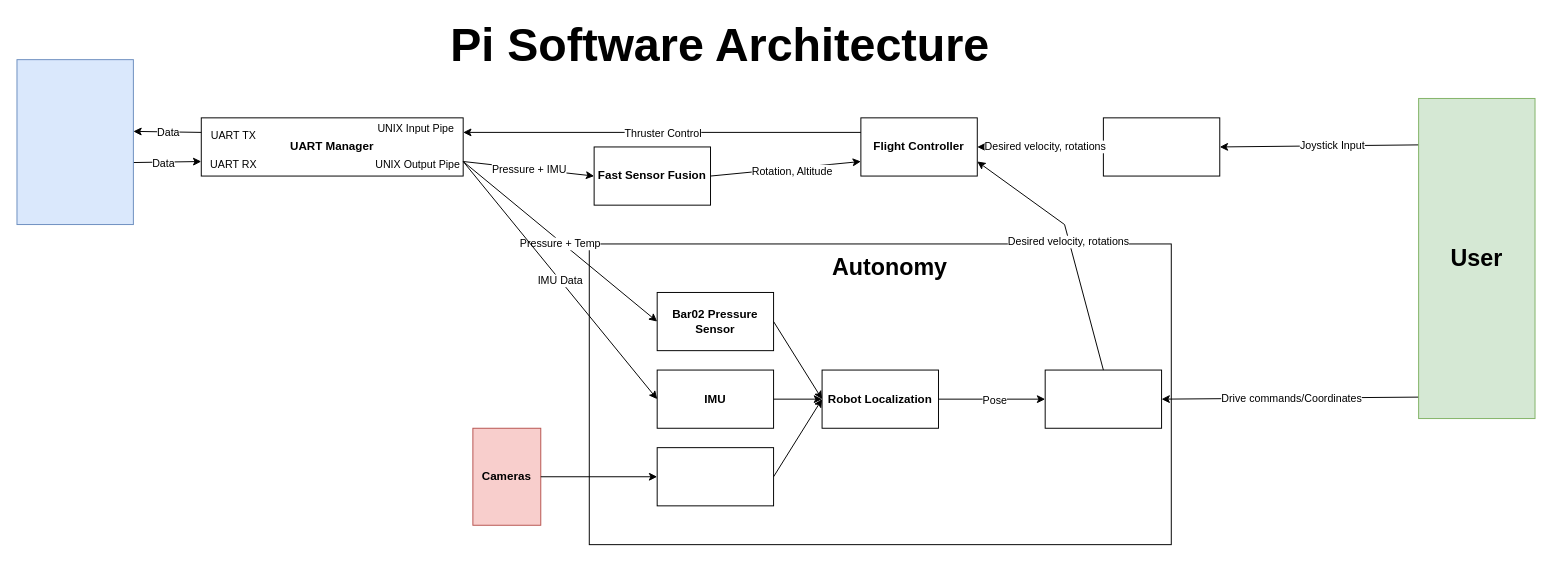
Some shapes in this 1552 by 562 pixel diagram are drawn without their labels. The centre of each missing label's shape, as x and y in pixels:
Navigation: the point at 1103,398
ROV Control: the point at 1161,146
SLAM: the point at 715,476
Water Board (STM32): the point at 74,142
